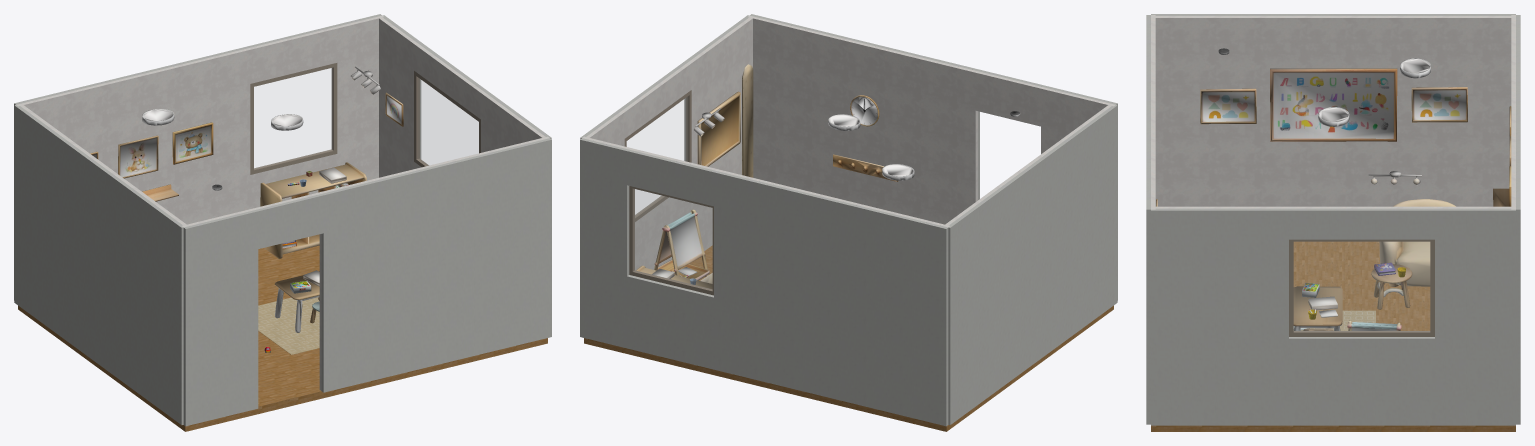
File: scene_named.glb
The picture shows the model from 3 angles, left to right: view 1: azimuth 30°, elevation 25°; view 2: azimuth 150°, elevation 25°; view 3: azimuth 270°, elevation 25°; orthographic projection. The views are drawn at different scales.
Visible parts, largest first — view 1: south_wall_exterior_playroom/south_wall_exterior_playroom/ge, west_wall_exterior_playroom/west_wall_exterior_playroom/geom, north_wall_playroom/north_wall_playroom/geometry_0, east_wall_playroom/east_wall_playroom/geometry_0, floor_playroom, window_2_playroom/window_2_playroom/glass, window_1_playroom/window_1_playroom/glass, rug_0, cubby_bookcase_0, window_2_playroom/window_2_playroom/frame, south_wall_playroom/south_wall_playroom/geometry_0, illustration_1 (+6 smaller); view 2: north_wall_exterior_playroom/north_wall_exterior_playroom/ge, south_wall_playroom/south_wall_playroom/geometry_0, west_wall_exterior_playroom/west_wall_exterior_playroom/geom, east_wall_playroom/east_wall_playroom/geometry_0, window_2_playroom/window_2_playroom/glass, floor_playroom, window_1_playroom/window_1_playroom/glass, easel_0, pinboard_0, window_2_playroom/window_2_playroom/frame, south_wall_exterior_playroom/south_wall_exterior_playroom/ge, growth_chart_ruler_0 (+6 smaller); view 3: east_wall_exterior_playroom/east_wall_exterior_playroom/geom, west_wall_playroom/west_wall_playroom/geometry_0, window_1_playroom/window_1_playroom/glass, floor_playroom, poster_0, window_1_playroom/window_1_playroom/frame, armchair_0, north_wall_exterior_playroom/north_wall_exterior_playroom/ge, south_wall_exterior_playroom/south_wall_exterior_playroom/ge, framed_print_1, framed_print_0, kids_activity_table_0 (+9 smaller).
Boxes of the visible parts, x1=… form: south_wall_exterior_playroom/south_wall_exterior_playroom/ge: x1=183, y1=138, x2=551, y2=426; west_wall_exterior_playroom/west_wall_exterior_playroom/geom: x1=14, y1=105, x2=183, y2=424; north_wall_playroom/north_wall_playroom/geometry_0: x1=16, y1=15, x2=383, y2=224; east_wall_playroom/east_wall_playroom/geometry_0: x1=379, y1=17, x2=545, y2=177; floor_playroom: x1=18, y1=245, x2=547, y2=431; window_2_playroom/window_2_playroom/glass: x1=254, y1=68, x2=332, y2=168; window_1_playroom/window_1_playroom/glass: x1=418, y1=78, x2=478, y2=165; rug_0: x1=258, y1=297, x2=319, y2=354; cubby_bookcase_0: x1=260, y1=162, x2=366, y2=258; window_2_playroom/window_2_playroom/frame: x1=250, y1=63, x2=337, y2=174; south_wall_playroom/south_wall_playroom/geometry_0: x1=182, y1=136, x2=549, y2=390; illustration_1: x1=118, y1=135, x2=158, y2=178; north_wall_exterior_playroom/north_wall_exterior_playroom/ge: x1=580, y1=138, x2=948, y2=426; south_wall_playroom/south_wall_playroom/geometry_0: x1=748, y1=15, x2=1115, y2=224; west_wall_exterior_playroom/west_wall_exterior_playroom/geom: x1=948, y1=105, x2=1117, y2=424; east_wall_playroom/east_wall_playroom/geometry_0: x1=586, y1=17, x2=752, y2=270; window_2_playroom/window_2_playroom/glass: x1=634, y1=189, x2=712, y2=289; floor_playroom: x1=584, y1=245, x2=1113, y2=431; window_1_playroom/window_1_playroom/glass: x1=627, y1=97, x2=687, y2=215; easel_0: x1=654, y1=209, x2=709, y2=280; pinboard_0: x1=697, y1=91, x2=740, y2=166; window_2_playroom/window_2_playroom/frame: x1=629, y1=186, x2=713, y2=295; south_wall_exterior_playroom/south_wall_exterior_playroom/ge: x1=750, y1=14, x2=1117, y2=300; growth_chart_ruler_0: x1=742, y1=64, x2=753, y2=177; east_wall_exterior_playroom/east_wall_exterior_playroom/geom: x1=1151, y1=208, x2=1515, y2=425; west_wall_playroom/west_wall_playroom/geometry_0: x1=1155, y1=16, x2=1511, y2=206; window_1_playroom/window_1_playroom/glass: x1=1294, y1=242, x2=1429, y2=331; floor_playroom: x1=1151, y1=241, x2=1515, y2=431; poster_0: x1=1270, y1=68, x2=1397, y2=141; window_1_playroom/window_1_playroom/frame: x1=1289, y1=239, x2=1434, y2=336; armchair_0: x1=1379, y1=199, x2=1455, y2=286; north_wall_exterior_playroom/north_wall_exterior_playroom/ge: x1=1516, y1=15, x2=1520, y2=424; south_wall_exterior_playroom/south_wall_exterior_playroom/ge: x1=1146, y1=15, x2=1150, y2=424; framed_print_1: x1=1411, y1=87, x2=1467, y2=122; framed_print_0: x1=1200, y1=88, x2=1256, y2=124; kids_activity_table_0: x1=1293, y1=286, x2=1342, y2=330.
Bounding box in the file's own units: 5.1 × 2.7 × 4.1.
Materials: 50 (48 with a texture image).
